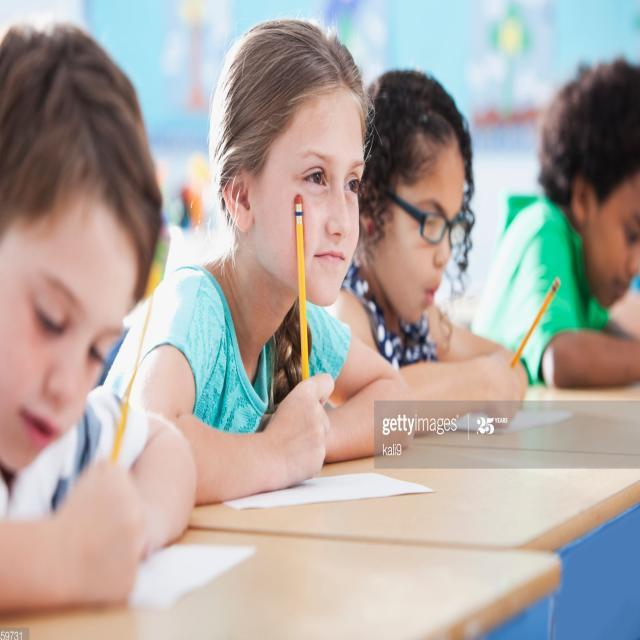good: (110, 9, 439, 516), (337, 52, 555, 413)
